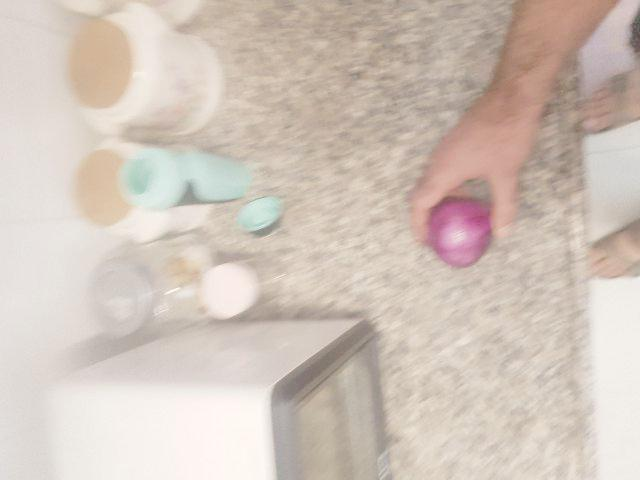onion: (208, 422, 302, 480)
